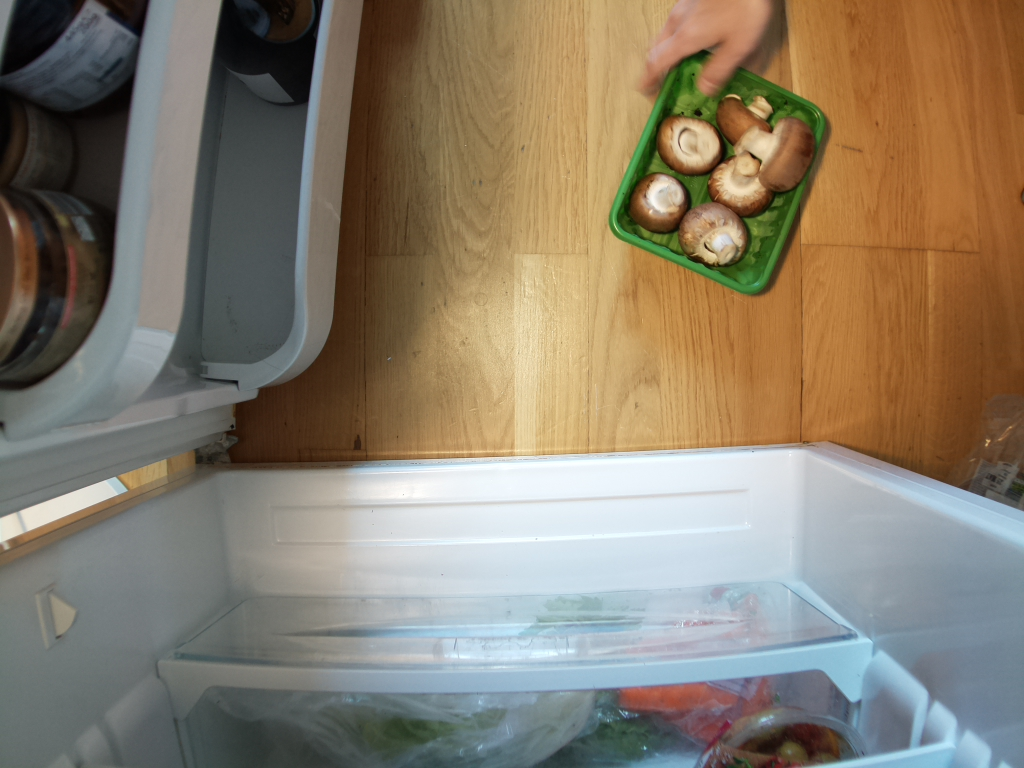mushrooms: (611, 42, 832, 293)
